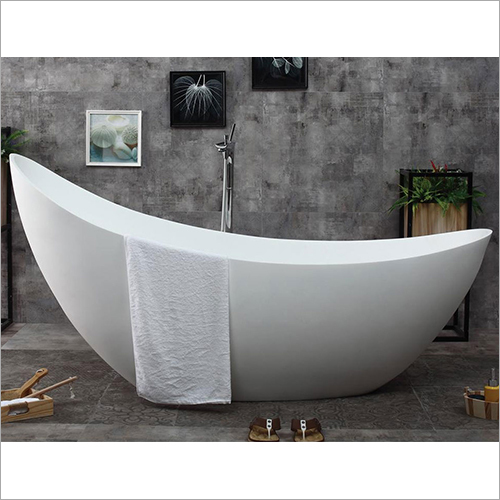bathub: (7, 130, 492, 411)
